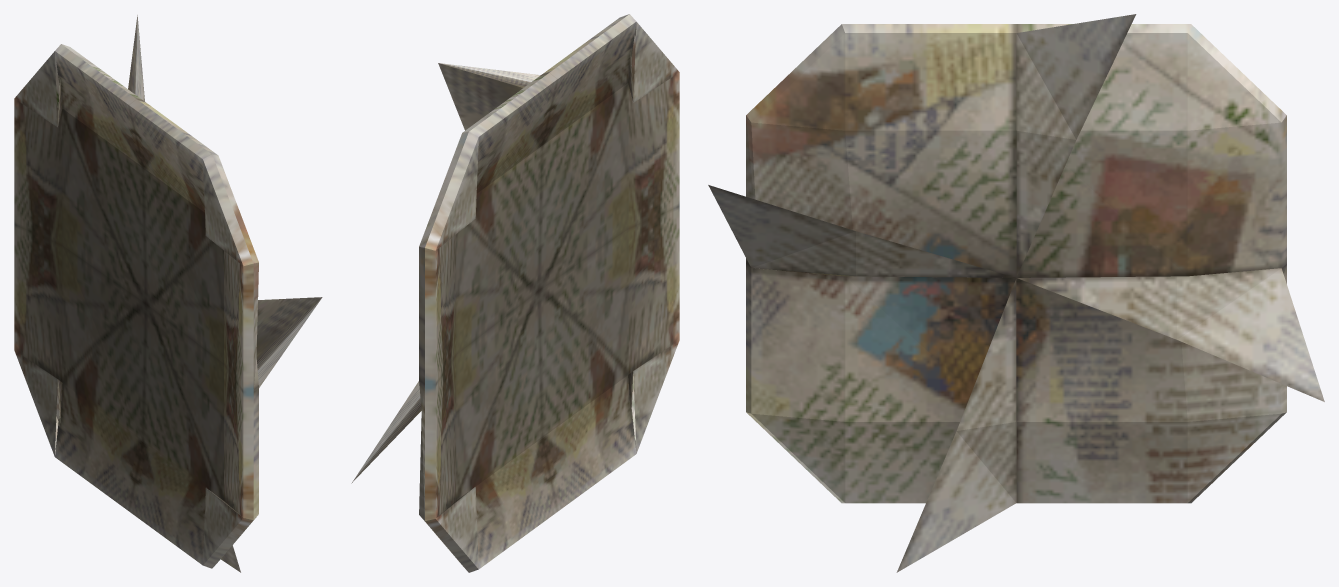
Rendered from Whale_paperWeapon_shield.obj.
The picture shows the model from 3 angles, left to right: view 1: azimuth 30°, elevation 25°; view 2: azimuth 150°, elevation 25°; view 3: azimuth 270°, elevation 25°; orthographic projection. The views are drawn at different scales.
Parts seen in each view (by area): view 1: Whale_paperWeapon_tri [shield]; view 2: Whale_paperWeapon_tri [shield]; view 3: Whale_paperWeapon_tri [shield].
Part boxes in pixels (bbox=[...]): Whale_paperWeapon_tri [shield]: bbox=[14, 15, 322, 572]; Whale_paperWeapon_tri [shield]: bbox=[351, 14, 679, 572]; Whale_paperWeapon_tri [shield]: bbox=[708, 14, 1324, 572].
Size of the model in its own units: 0.1216 by 0.9277 by 0.9277.
Materials: 1 (1 with a texture image).
